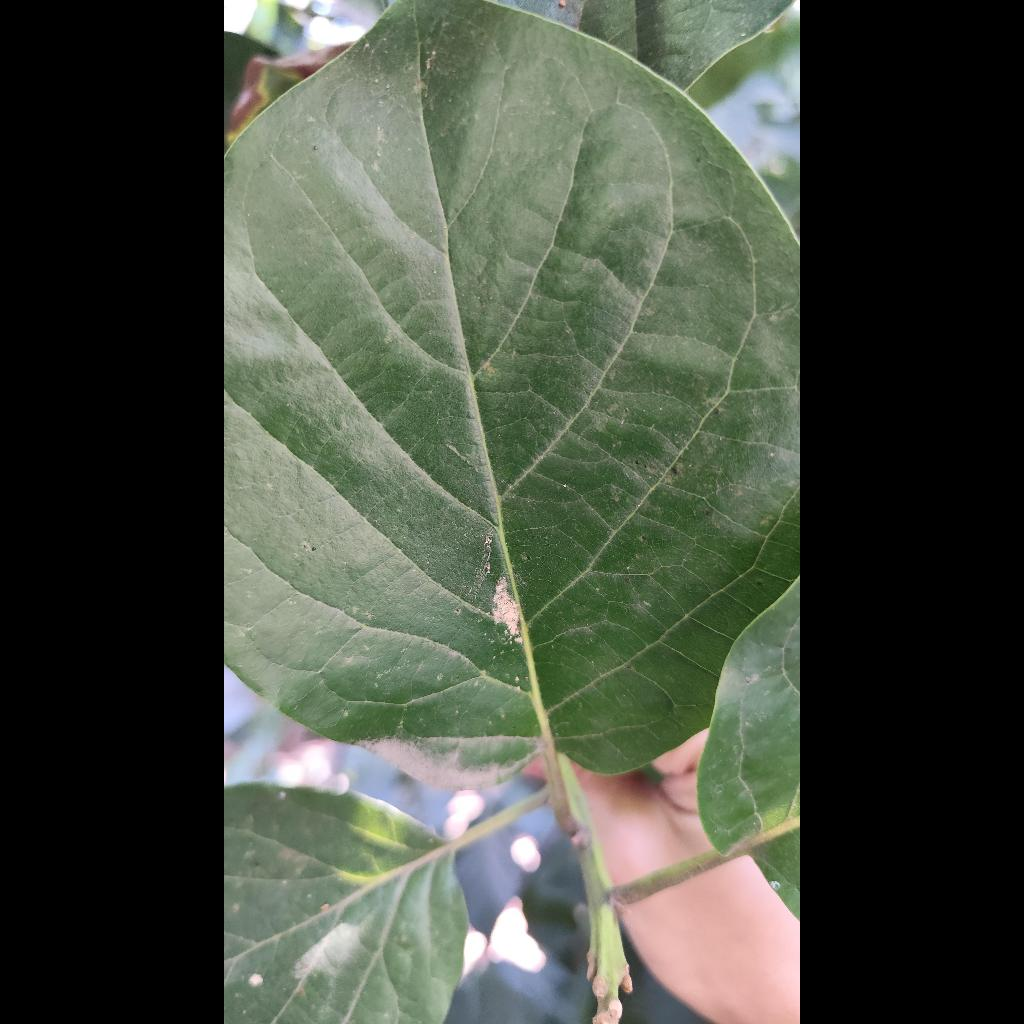hoja_sana: (224, 0, 800, 788)
